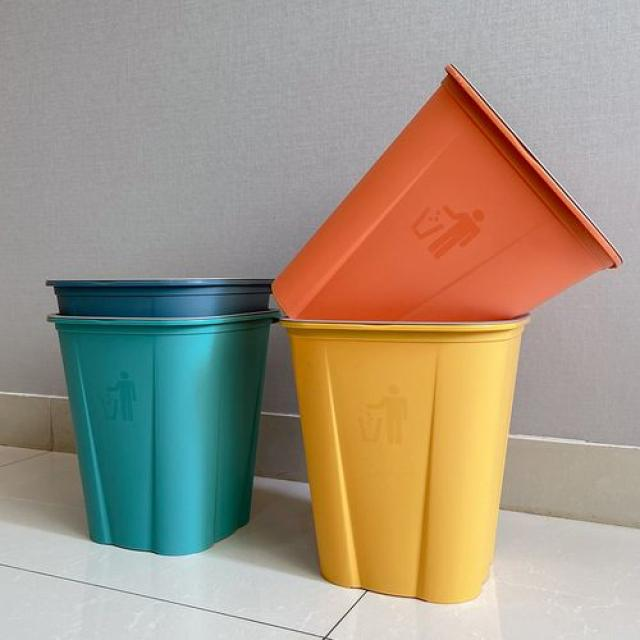dustbin: (269, 58, 636, 327), (267, 306, 533, 607), (41, 274, 284, 559)
